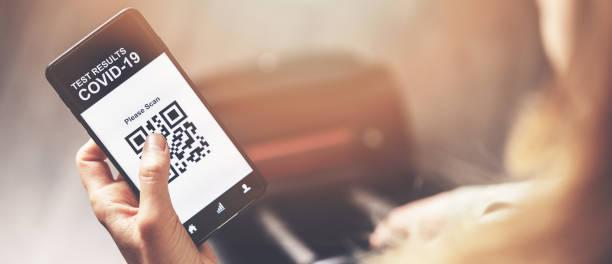Finder pattern: (154, 99, 191, 132), (121, 126, 153, 156)
